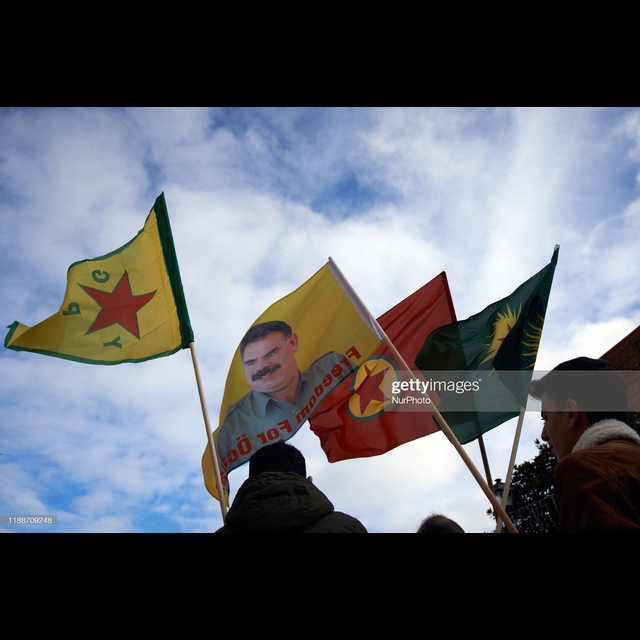APO: (236, 328, 304, 394)
PKK: (342, 342, 407, 426)
YPG: (54, 262, 162, 353)
